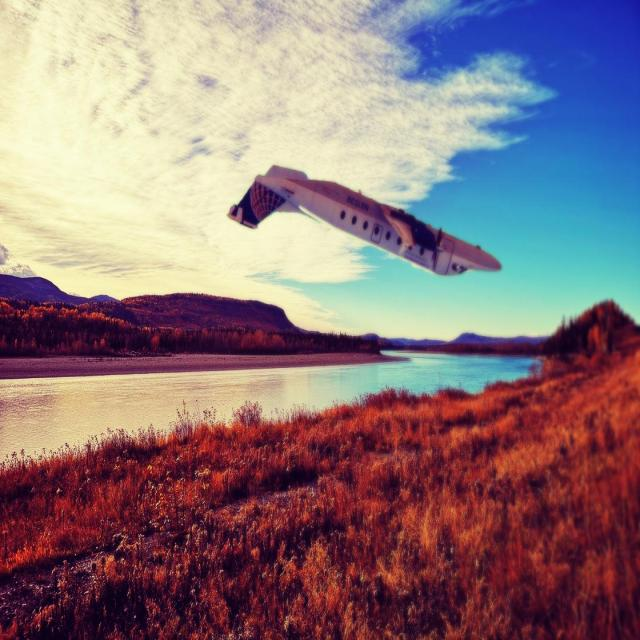airplane: (226, 163, 502, 276)
